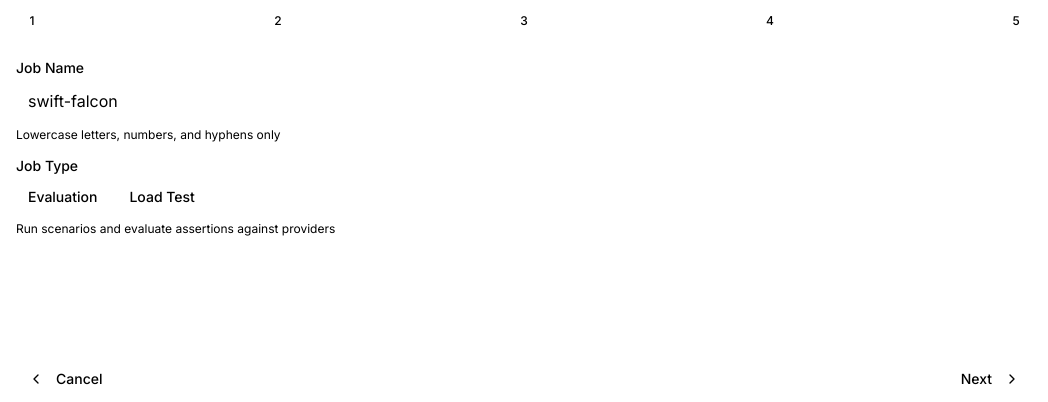
Test: JobWizard › Step 0: Basic Info › shows load test description when Load Test is selected
This screenshot has width=1048, height=402.
Click the button "Load Test".
click(162, 197)  # box [117,181,207,213]
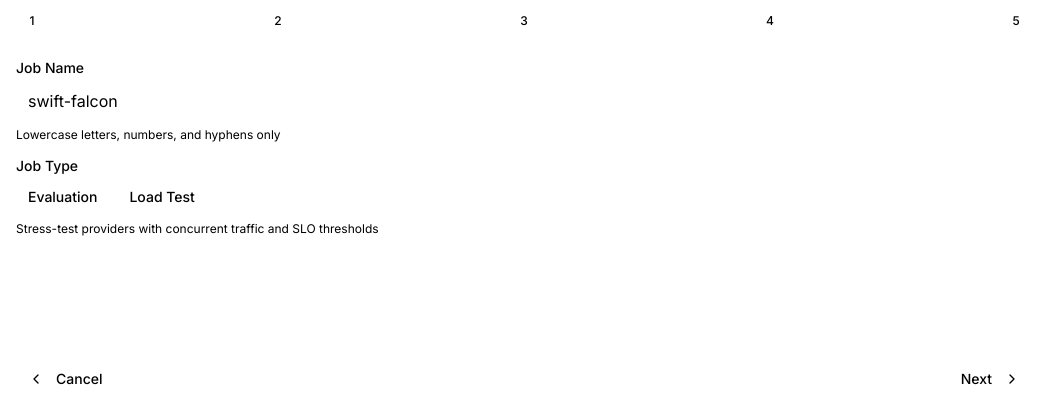
Result: the text "Stress-test providers" is shown at [16,221,379,236]
